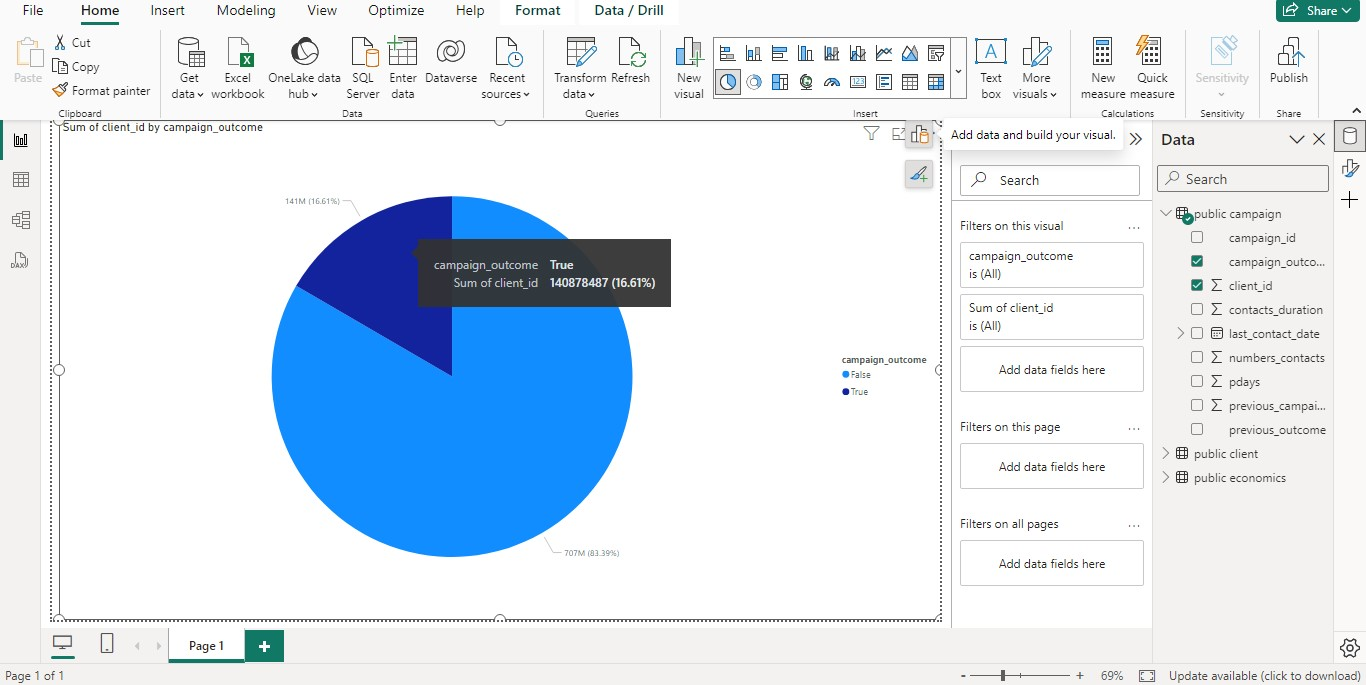

The page's visual inventory and layout, read from the dashboard file:
{"tool":"powerbi","page":{"name":"Page 1","canvas":[1280,720],"ordinal":0},"visuals":[{"type":"pieChart","fields":{"Category":["public campaign.campaign_outcome"],"Y":["Sum(public campaign.client_id)"]},"box":[10.1,0,1270.1,720],"z":0}]}

Visuals, with their boxes on the page's 1280x720 design canvas (x1, y1, x2, y2). These are canvas units, not pixel positions in the 1366x685 screenshot, which may show the page scaled, cropped or inside an application window:
pieChart - public campaign.campaign_outcome x Sum(public campaign.client_id): x1=10, y1=0, x2=1280, y2=720
